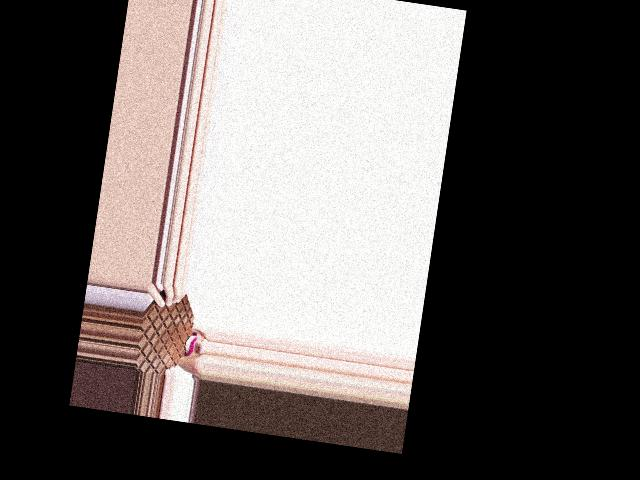chocolate: (134, 281, 200, 378)
